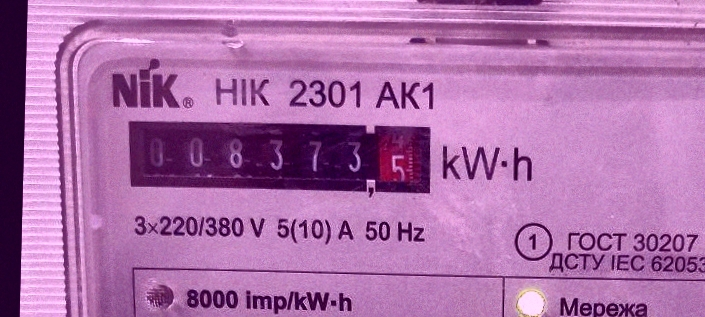0: (146, 133, 167, 170), (186, 133, 206, 170)
3: (343, 137, 366, 175), (265, 135, 287, 173)
4: (388, 130, 407, 151)
5: (389, 151, 408, 182)
7: (305, 135, 324, 175)
8: (225, 134, 247, 171)
screen: (121, 112, 440, 207)
